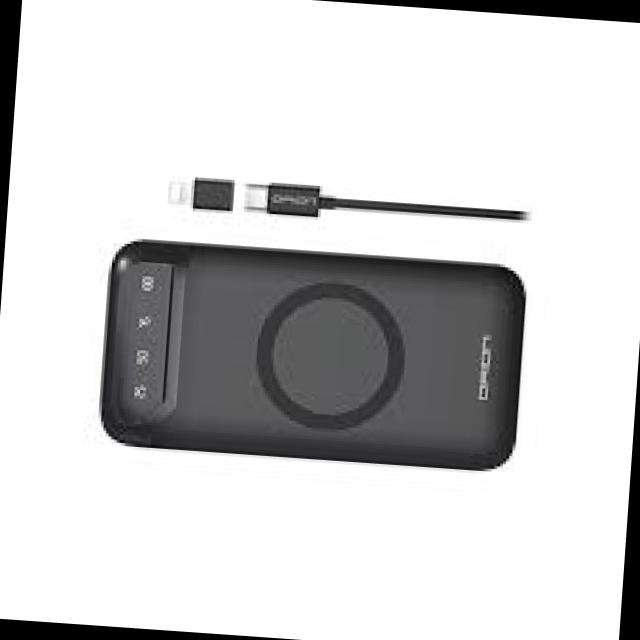portable-charger: (94, 231, 530, 476)
